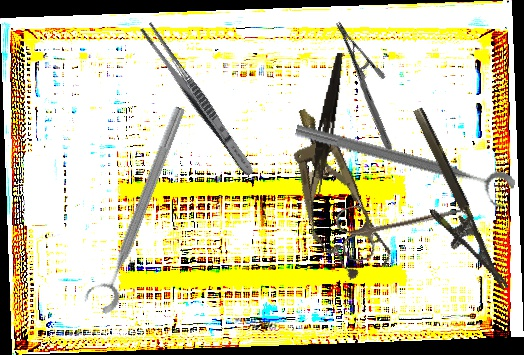Dressing Forceps: (137, 21, 259, 179), (309, 51, 345, 197)
Fixation Ring: (79, 99, 192, 317), (290, 117, 517, 212)
Iris Scissors: (333, 180, 471, 265)
Needle Holder: (388, 106, 509, 304), (293, 19, 435, 153)
Speculum: (268, 97, 399, 287)
